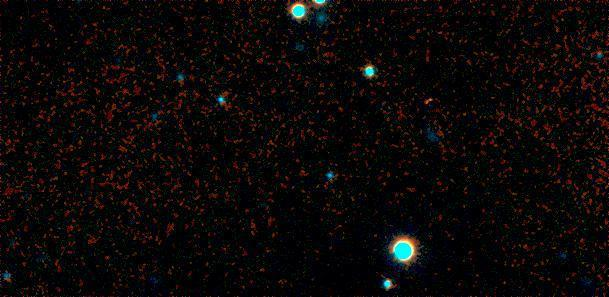star: (413, 86, 443, 116)
